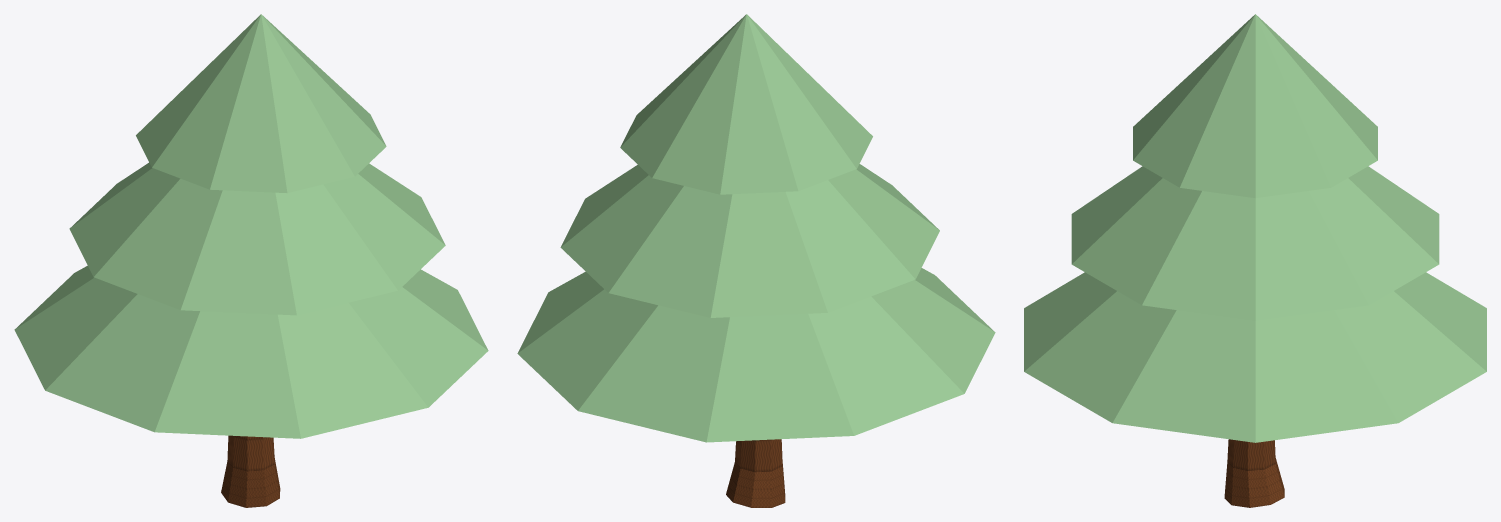
File: pine_spreading.glb
3 renders of one model, left to right at view 1: azimuth 30°, elevation 25°; view 2: azimuth 150°, elevation 25°; view 3: azimuth 270°, elevation 25°, orthographic. The views are drawn at different scales.
Parts seen in each view (by area): view 1: pine-spreading; view 2: pine-spreading; view 3: pine-spreading.
Part boxes in pixels (left/top/right/bottom): pine-spreading: left=14, top=14, right=488, bottom=507; pine-spreading: left=517, top=14, right=995, bottom=507; pine-spreading: left=1024, top=14, right=1486, bottom=507.
Bounding box in the file's own units: 3.4 × 3.77 × 3.23.
Materials: 2 (1 with a texture image).
